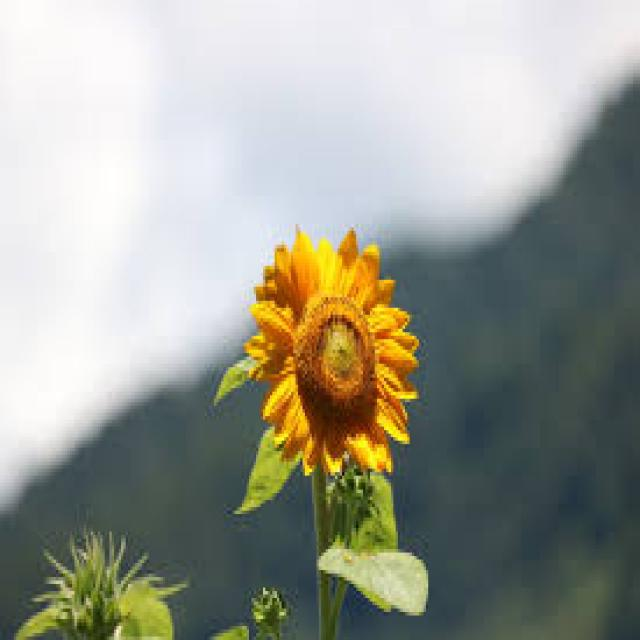sunflower: (240, 212, 422, 488)
